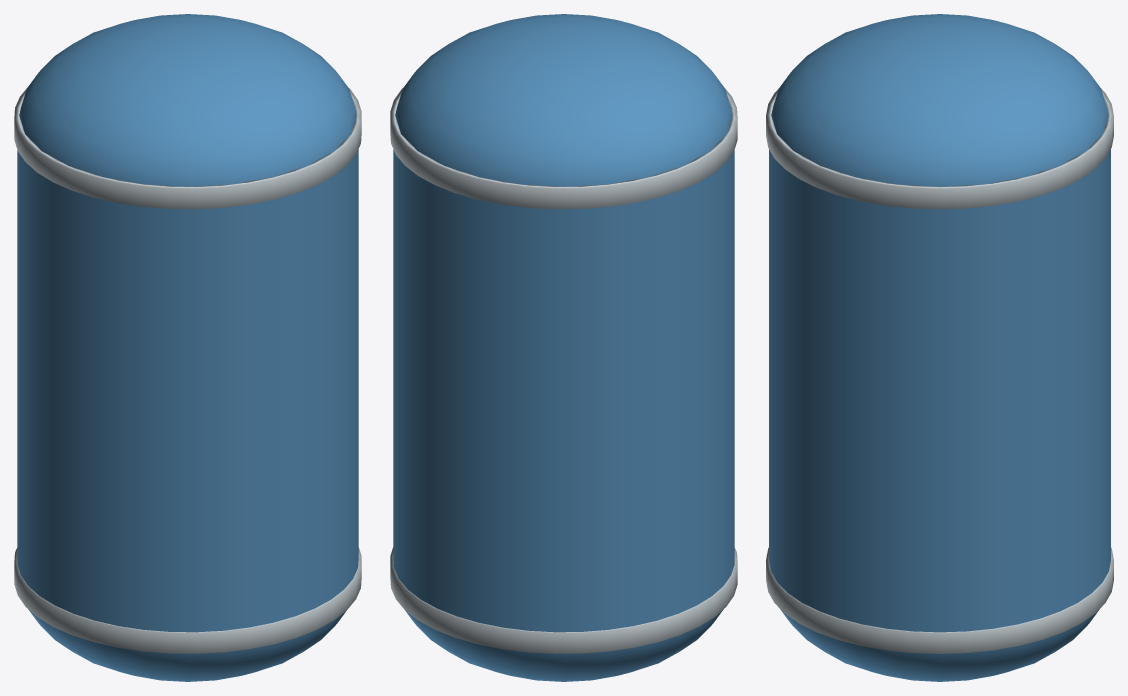
File: orion_esm_tank_a.glb
3 renders of one model, left to right at view 1: azimuth 30°, elevation 25°; view 2: azimuth 150°, elevation 25°; view 3: azimuth 270°, elevation 25°, orthographic.
Parts seen in each view (by area): view 1: orion_esmcutawaypropellant_01mesh_Cutaway_liquid_oxygen, orion_esmcutawaypropellant_01mesh_Satin_aluminum; view 2: orion_esmcutawaypropellant_01mesh_Cutaway_liquid_oxygen, orion_esmcutawaypropellant_01mesh_Satin_aluminum; view 3: orion_esmcutawaypropellant_01mesh_Cutaway_liquid_oxygen, orion_esmcutawaypropellant_01mesh_Satin_aluminum.
Part boxes in pixels (x1=…): orion_esmcutawaypropellant_01mesh_Cutaway_liquid_oxygen: x1=17, y1=14, x2=358, y2=681; orion_esmcutawaypropellant_01mesh_Satin_aluminum: x1=14, y1=88, x2=361, y2=653; orion_esmcutawaypropellant_01mesh_Cutaway_liquid_oxygen: x1=393, y1=14, x2=734, y2=681; orion_esmcutawaypropellant_01mesh_Satin_aluminum: x1=390, y1=88, x2=737, y2=653; orion_esmcutawaypropellant_01mesh_Cutaway_liquid_oxygen: x1=769, y1=14, x2=1110, y2=681; orion_esmcutawaypropellant_01mesh_Satin_aluminum: x1=766, y1=88, x2=1113, y2=653.
Size of the model in its own units: 1.24 by 2.42 by 1.24.
